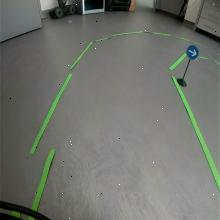right: (186, 44, 200, 61)
